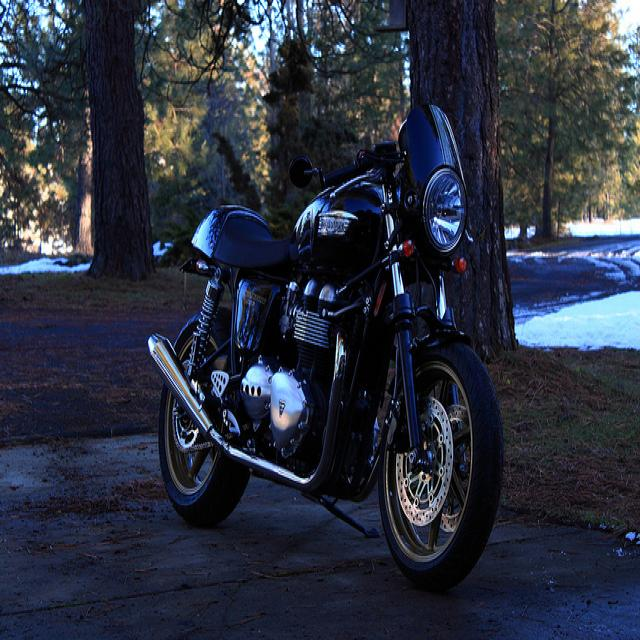motor: (149, 108, 506, 594)
